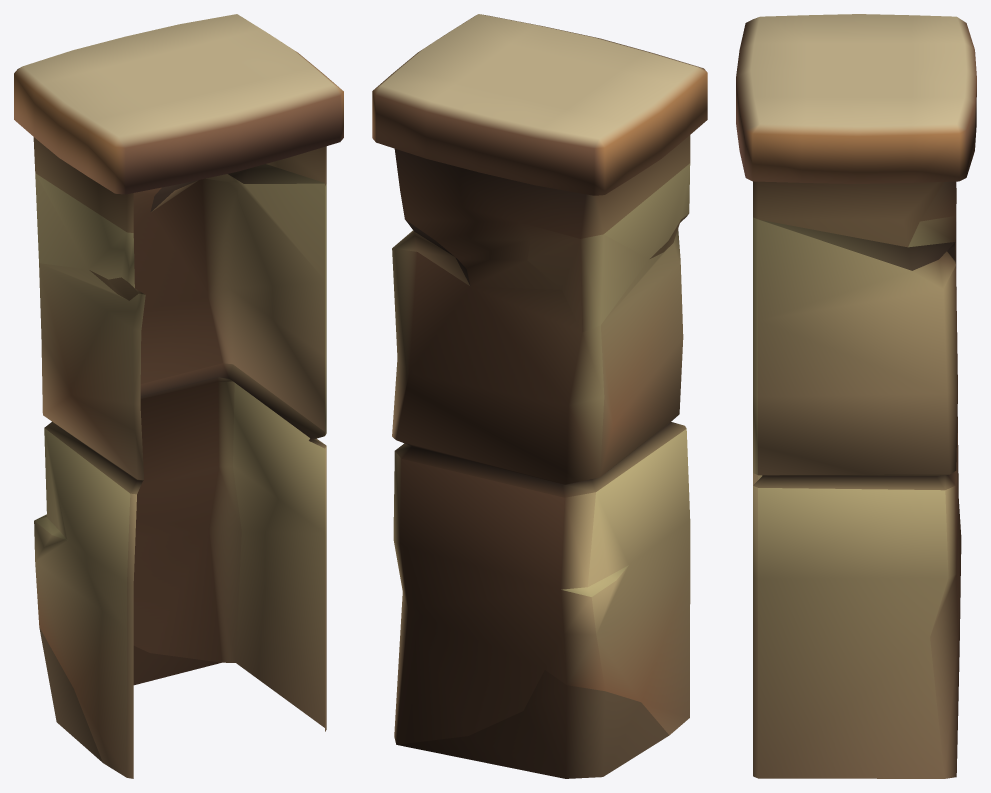
Rendered from city_piston_3.fbx.
3 renders of one model, left to right at view 1: azimuth 30°, elevation 25°; view 2: azimuth 150°, elevation 25°; view 3: azimuth 270°, elevation 25°, orthographic. The views are drawn at different scales.
Visible parts, largest first — view 1: piston; view 2: piston; view 3: piston.
Boxes of the visible parts, left/top/right/bottom form: piston: left=14, top=14, right=343, bottom=778; piston: left=372, top=14, right=707, bottom=778; piston: left=736, top=14, right=976, bottom=778.
Bounding box in the file's own units: 112 × 289 × 95.22.
